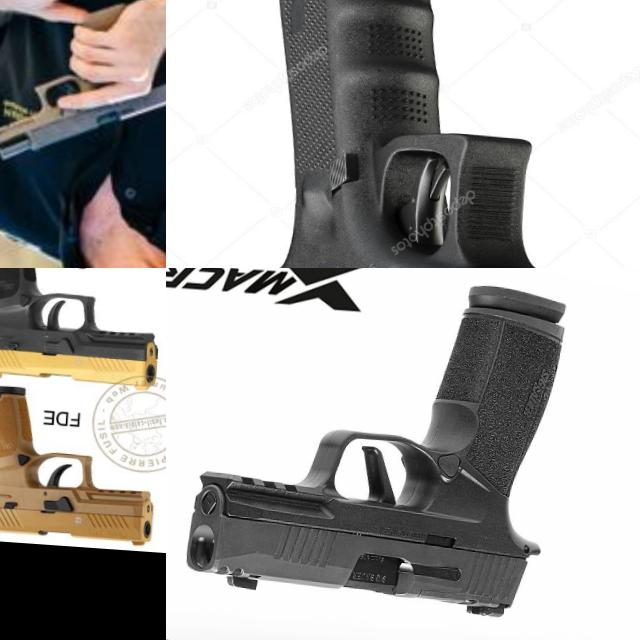handgun: (175, 268, 575, 624), (234, 0, 640, 268), (0, 380, 162, 548), (0, 268, 166, 392), (0, 62, 166, 176), (0, 366, 101, 535), (0, 268, 104, 373)
